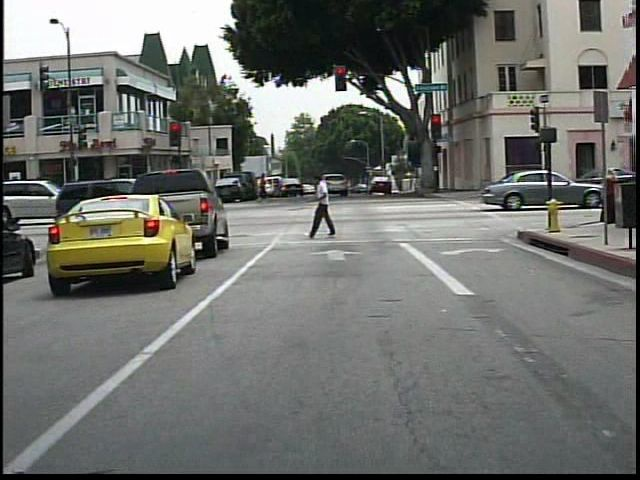person: (308, 170, 343, 241), (598, 163, 621, 228), (255, 168, 277, 208)
